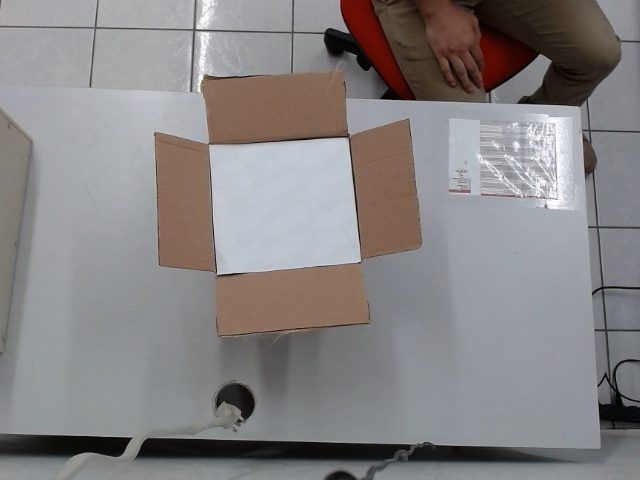divisor: (204, 136, 361, 278)
